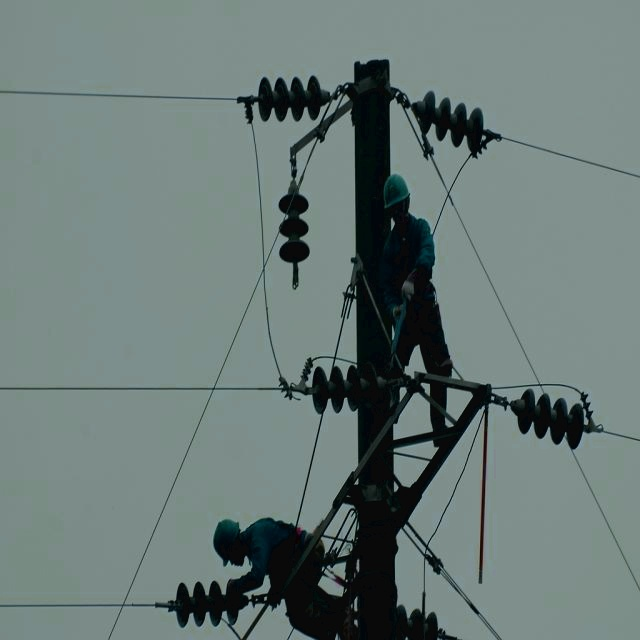Con_Casco: (384, 173, 411, 221)
